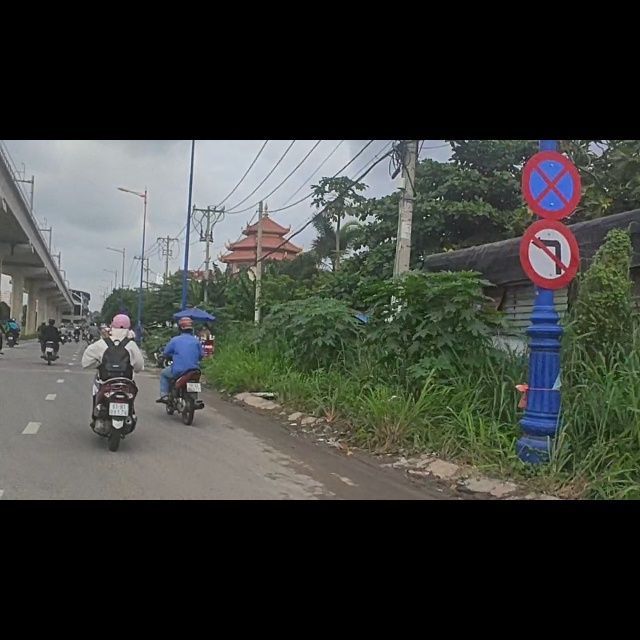bien_cam: (519, 141, 579, 265), (521, 18, 581, 139)
